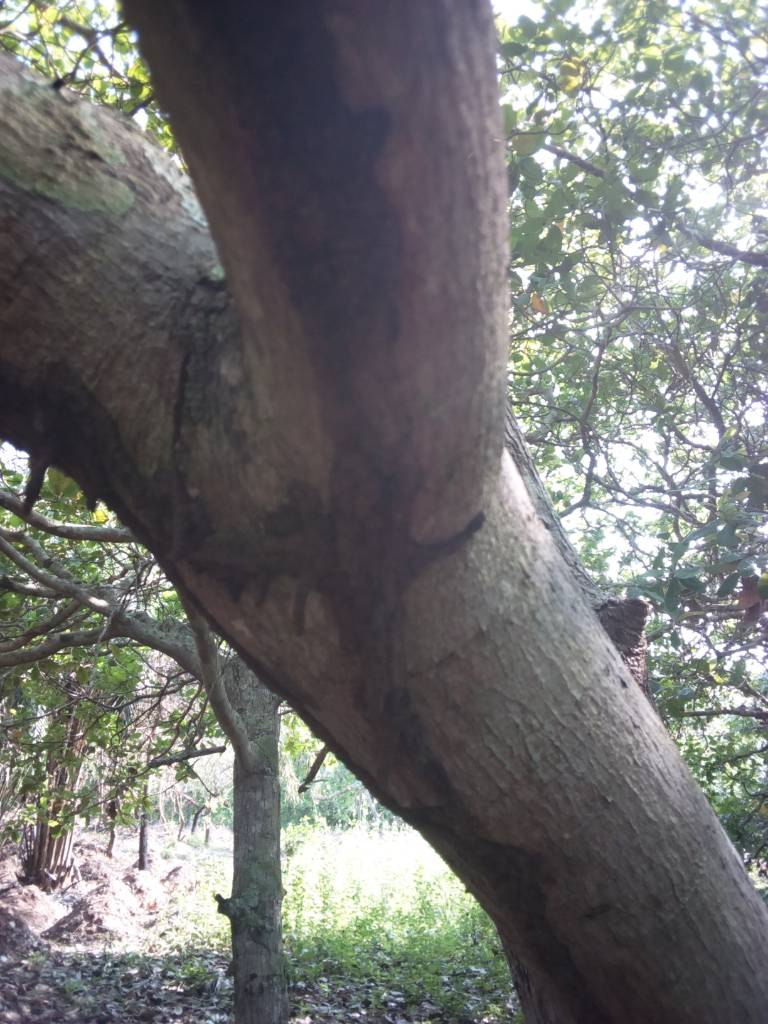Termites: (213, 24, 465, 750)
